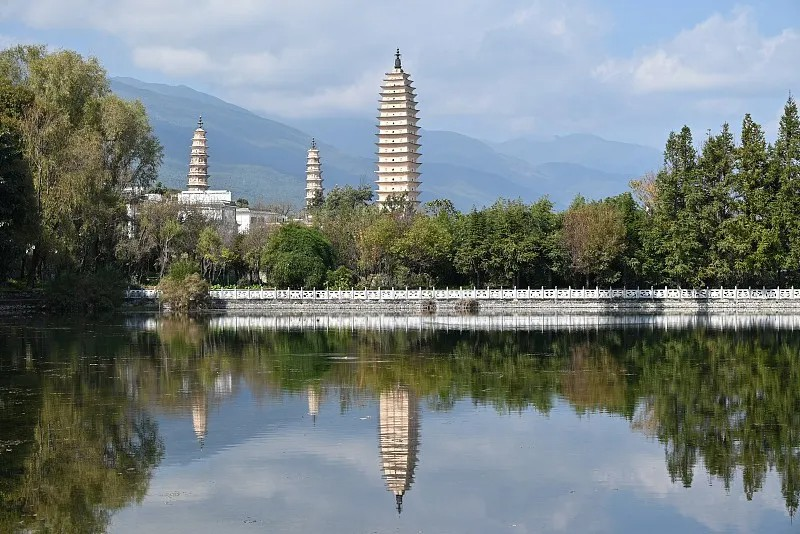ThreePagoda: (373, 47, 423, 208)
